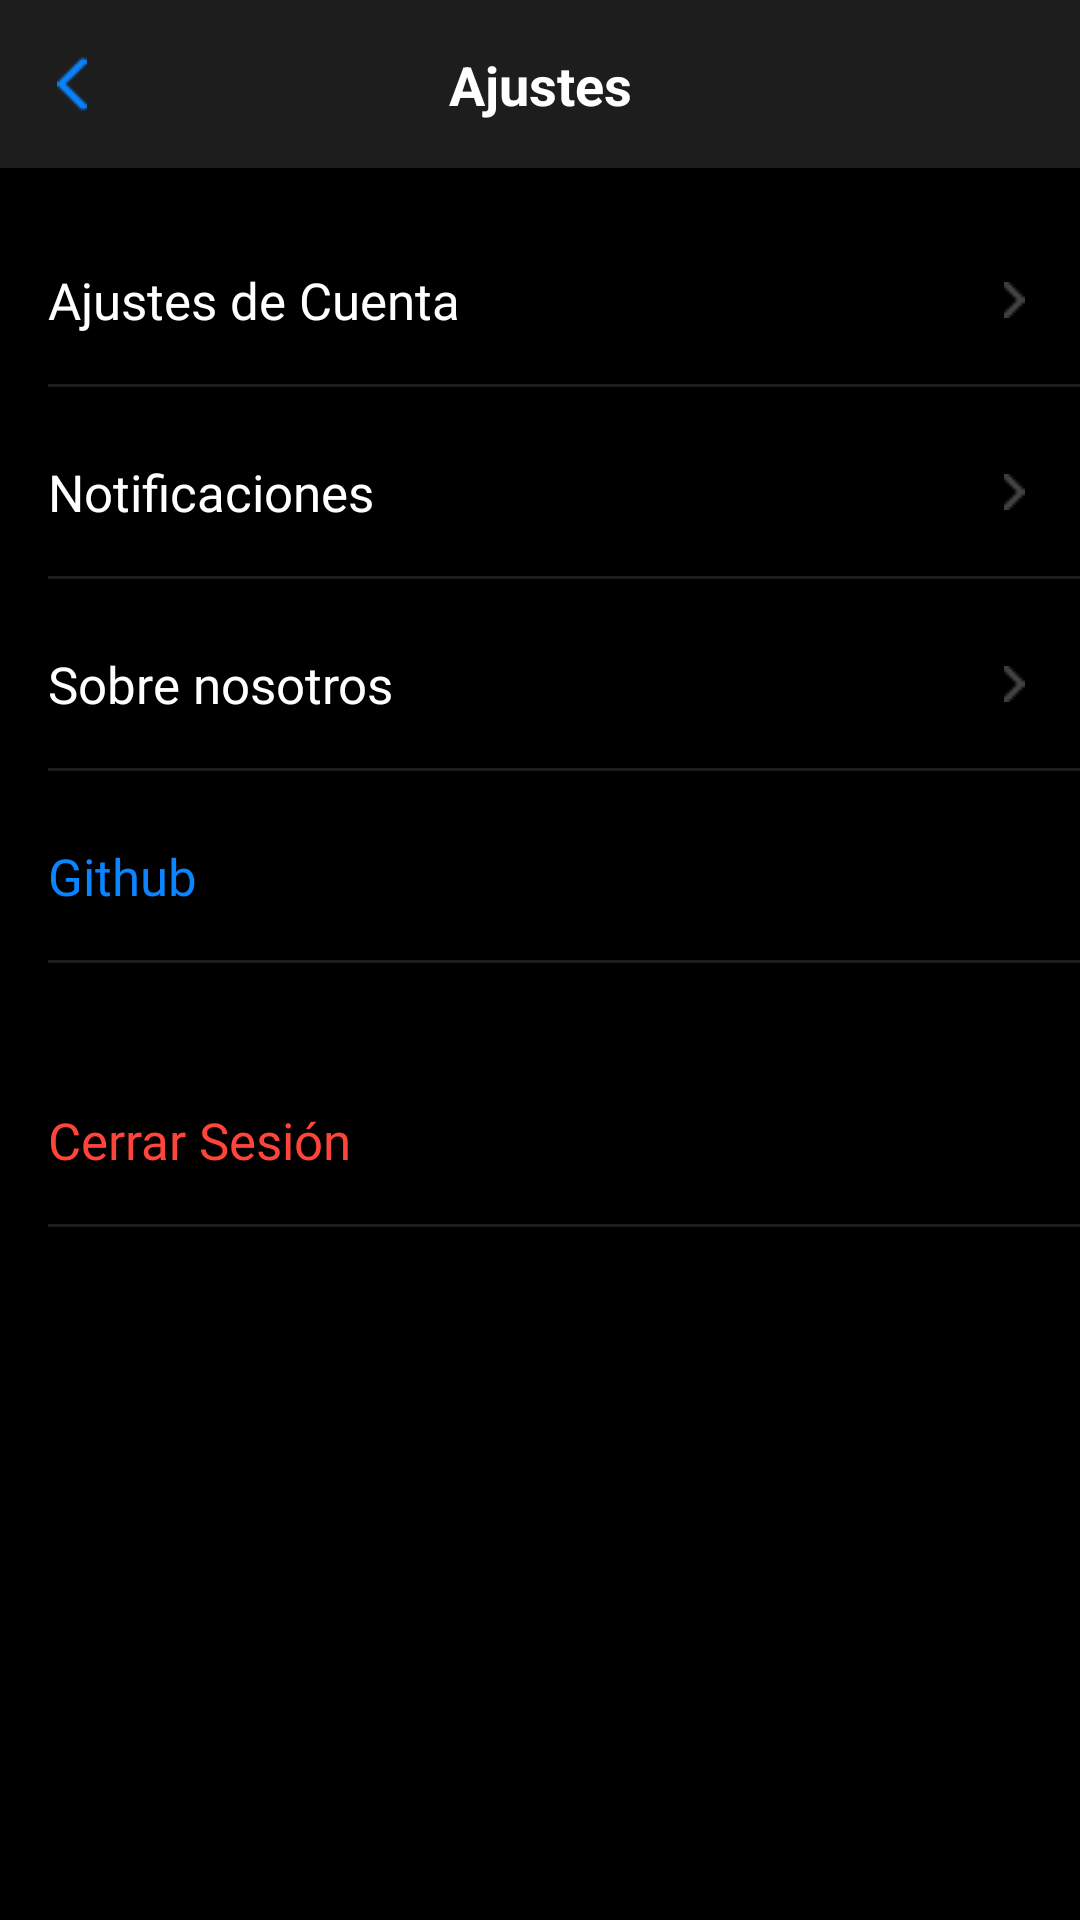

Icons on this 1080 x 1920 Android screen, each with its box as (x1, y1, x2, y2):
chevron left: (57, 57, 87, 111)
chevron right: (1004, 282, 1025, 318), (1004, 474, 1025, 510), (1004, 666, 1025, 702)
